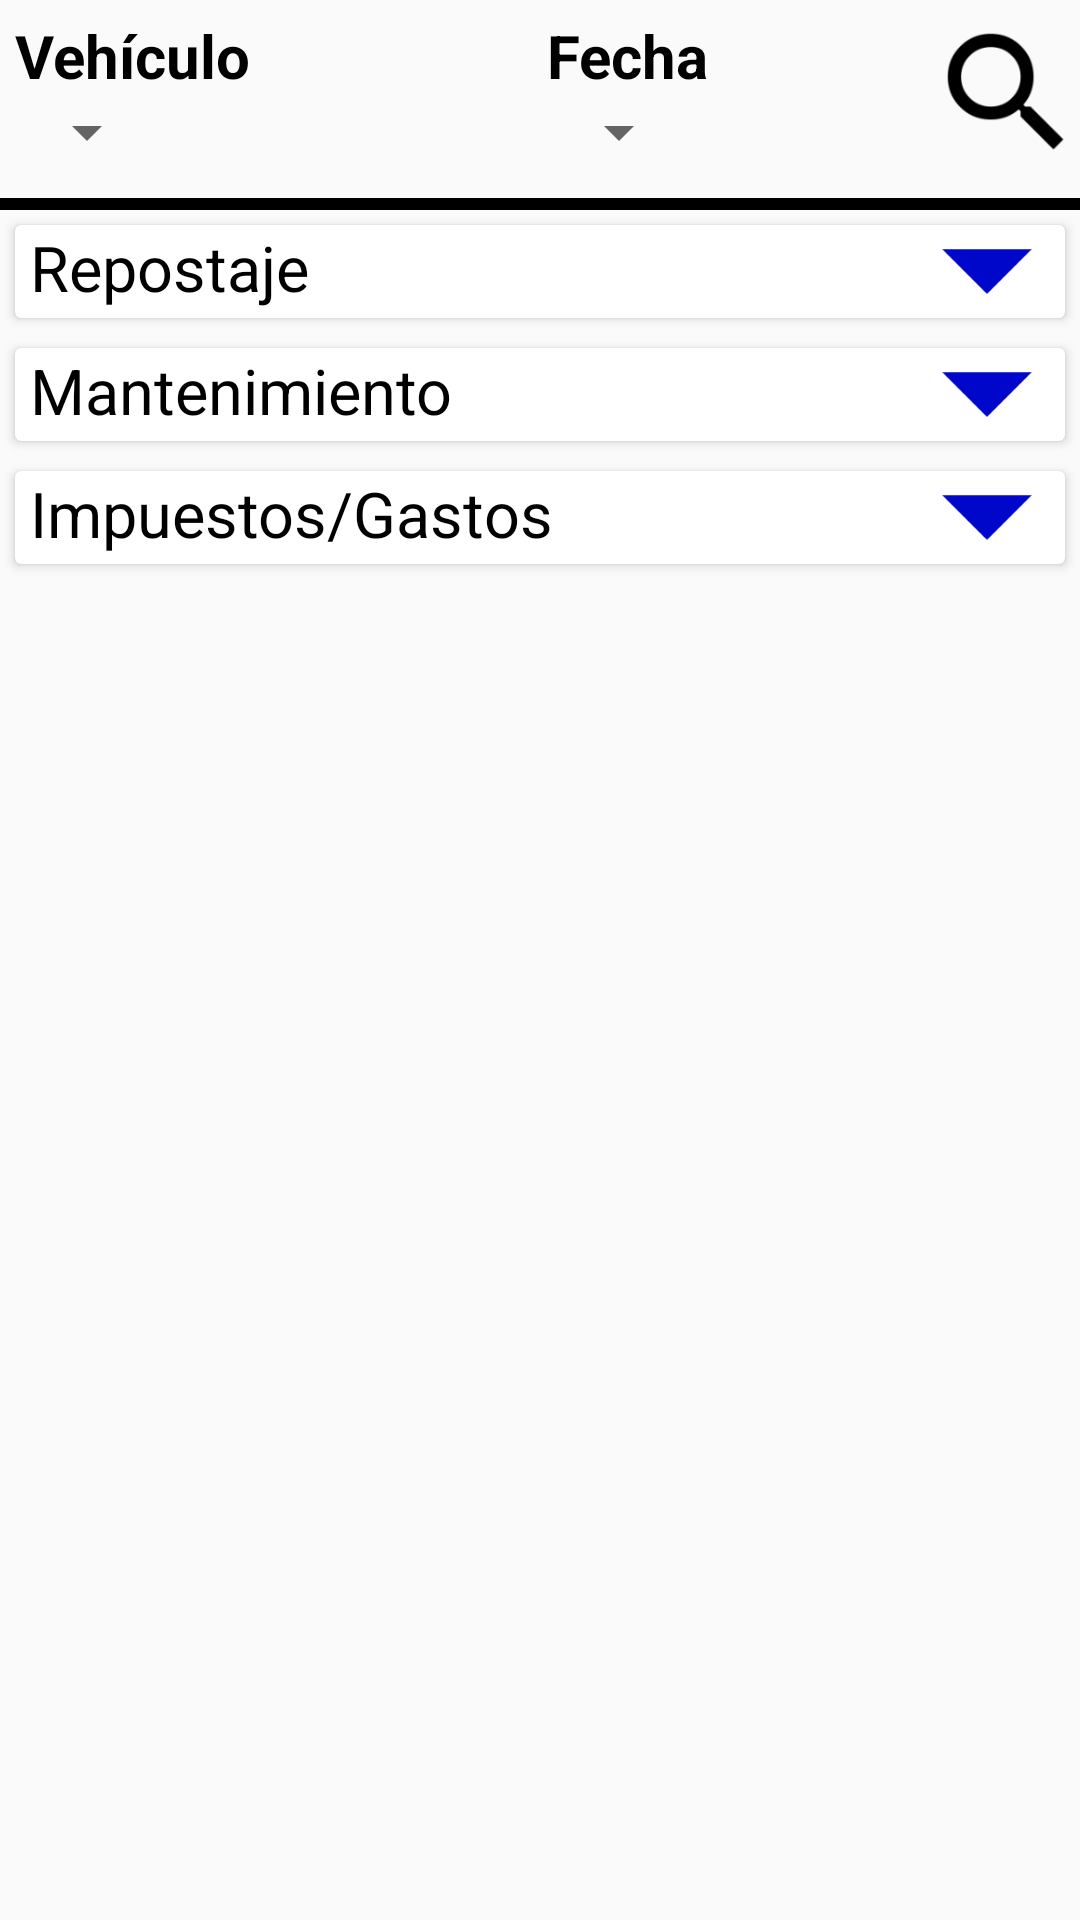

Named icons in this screenshot (1080px×1920px) and their bounding boxes, (x1, y1, x2, y2):
buscar: (947, 33, 1064, 150)
desplegar: (942, 249, 1032, 294), (942, 372, 1032, 417), (942, 495, 1032, 540)
